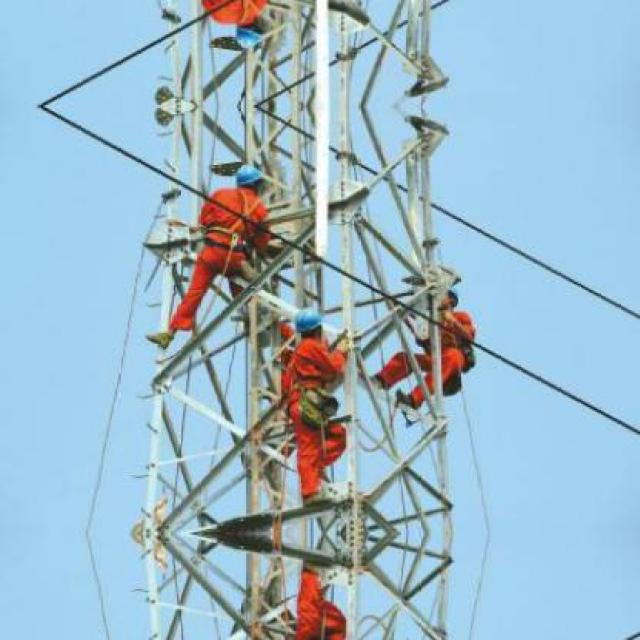helmet: (292, 304, 323, 344), (230, 18, 262, 52), (230, 160, 262, 193), (429, 278, 460, 310)
